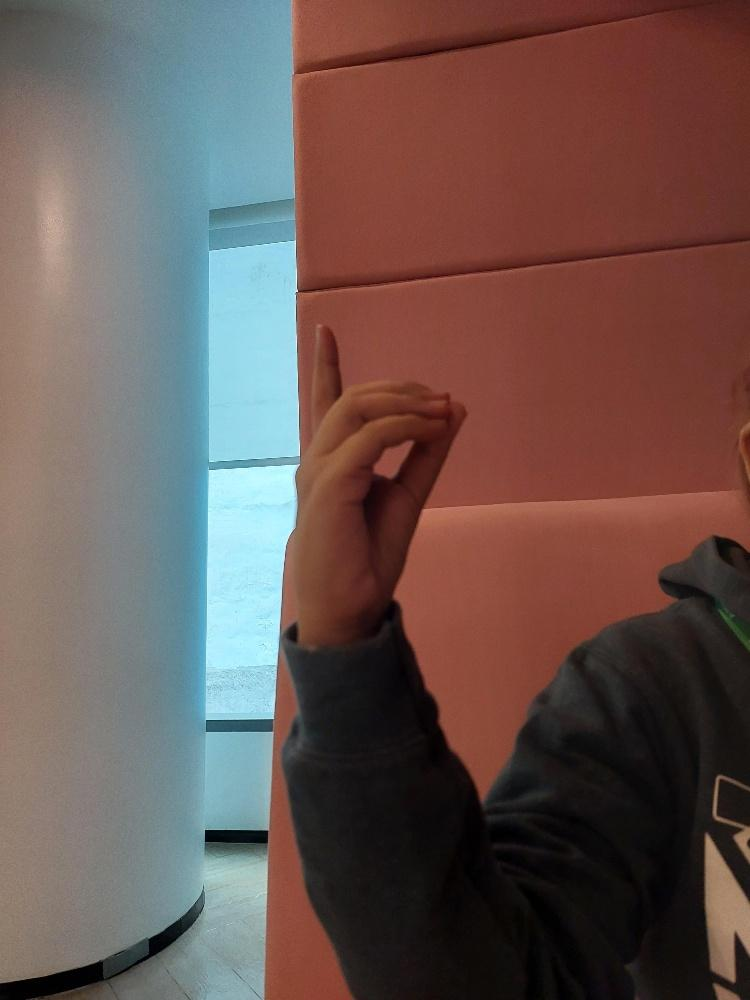d: (280, 315, 474, 642)
